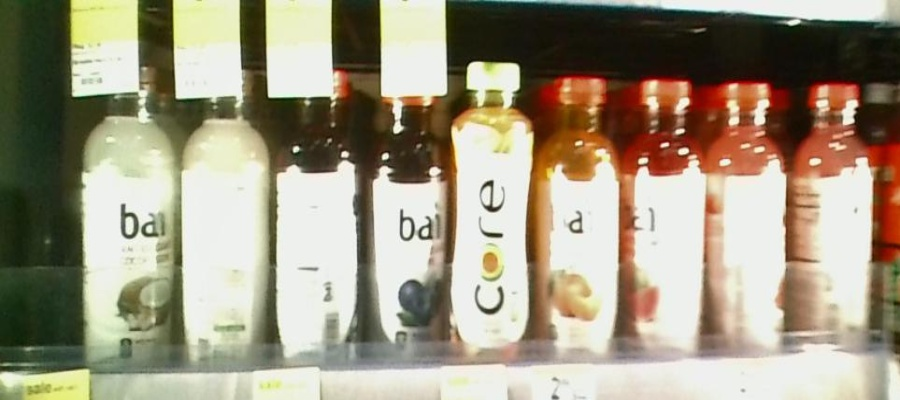bottle: (78, 61, 179, 363), (182, 69, 275, 367), (273, 69, 362, 374), (450, 62, 535, 360), (622, 62, 706, 357), (708, 65, 791, 357), (364, 70, 450, 350), (796, 62, 875, 357), (538, 70, 620, 350)
